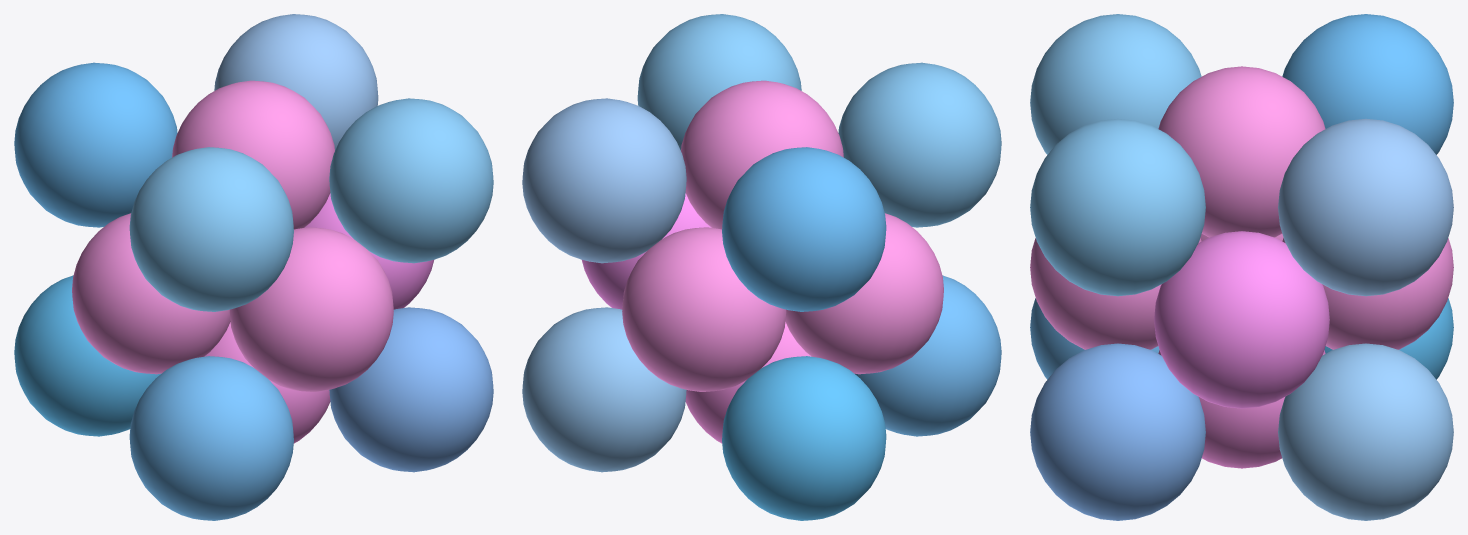
File: jazz fcc.fbx
3 renders of one model, left to right at view 1: azimuth 30°, elevation 25°; view 2: azimuth 150°, elevation 25°; view 3: azimuth 270°, elevation 25°, orthographic. The views are drawn at different scales.
Parts seen in each view (by area): view 1: imagetostl_mesh0, imagetostl_mesh10, imagetostl_mesh2, imagetostl_mesh3, imagetostl_mesh1, imagetostl_mesh16, imagetostl_mesh9, imagetostl_mesh11, imagetostl_mesh4, imagetostl_mesh5, imagetostl_mesh8, imagetostl_mesh7; view 2: imagetostl_mesh3, imagetostl_mesh5, imagetostl_mesh4, imagetostl_mesh0, imagetostl_mesh6, imagetostl_mesh12, imagetostl_mesh9, imagetostl_mesh11, imagetostl_mesh2, imagetostl_mesh10, imagetostl_mesh8, imagetostl_mesh7; view 3: imagetostl_mesh10, imagetostl_mesh5, imagetostl_mesh1, imagetostl_mesh6, imagetostl_mesh8, imagetostl_mesh11, imagetostl_mesh0, imagetostl_mesh3, imagetostl_mesh12, imagetostl_mesh16, imagetostl_mesh7, imagetostl_mesh2 (+1 smaller).
Part boxes in pixels (<box>): imagetostl_mesh0: <box>129,147,293,311</box>; imagetostl_mesh10: <box>329,98,493,263</box>; imagetostl_mesh2: <box>129,356,293,520</box>; imagetostl_mesh3: <box>14,62,177,227</box>; imagetostl_mesh1: <box>329,307,493,472</box>; imagetostl_mesh16: <box>229,227,393,391</box>; imagetostl_mesh9: <box>72,213,230,374</box>; imagetostl_mesh11: <box>172,80,334,229</box>; imagetostl_mesh4: <box>14,275,160,436</box>; imagetostl_mesh5: <box>214,14,378,150</box>; imagetostl_mesh8: <box>304,193,433,309</box>; imagetostl_mesh7: <box>205,322,330,443</box>; imagetostl_mesh3: <box>722,147,886,311</box>; imagetostl_mesh5: <box>522,98,686,263</box>; imagetostl_mesh4: <box>722,356,886,520</box>; imagetostl_mesh0: <box>838,62,1001,227</box>; imagetostl_mesh6: <box>522,307,686,472</box>; imagetostl_mesh12: <box>622,227,786,391</box>; imagetostl_mesh9: <box>785,213,943,374</box>; imagetostl_mesh11: <box>681,80,843,229</box>; imagetostl_mesh2: <box>855,275,1001,436</box>; imagetostl_mesh10: <box>637,14,801,150</box>; imagetostl_mesh8: <box>582,193,711,309</box>; imagetostl_mesh7: <box>685,322,810,443</box>; imagetostl_mesh10: <box>1030,118,1205,296</box>; imagetostl_mesh5: <box>1278,118,1453,296</box>; imagetostl_mesh1: <box>1030,343,1205,520</box>; imagetostl_mesh6: <box>1278,343,1453,520</box>; imagetostl_mesh8: <box>1154,231,1329,408</box>; imagetostl_mesh11: <box>1158,66,1325,237</box>; imagetostl_mesh0: <box>1030,14,1201,154</box>; imagetostl_mesh3: <box>1282,14,1453,154</box>; imagetostl_mesh12: <box>1282,238,1453,349</box>; imagetostl_mesh16: <box>1030,238,1201,349</box>; imagetostl_mesh7: <box>1158,350,1325,468</box>; imagetostl_mesh2: <box>1030,298,1159,379</box>.
Bounding box in the file's own units: 728 × 728 × 725.
